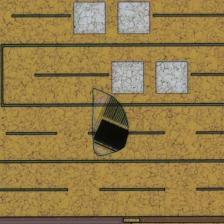BLOCK ETCH: (91, 87, 134, 160)
